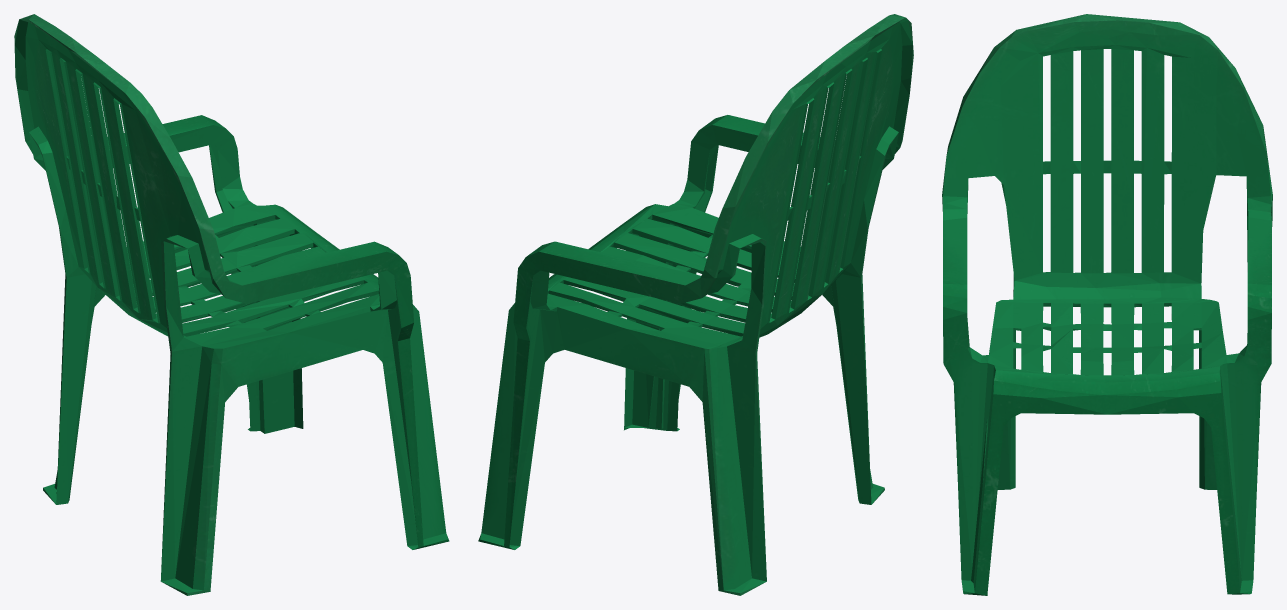
The model's file is silla_plastica.glb.
3 renders of one model, left to right at view 1: azimuth 30°, elevation 25°; view 2: azimuth 150°, elevation 25°; view 3: azimuth 270°, elevation 25°, orthographic. The views are drawn at different scales.
Visible parts, largest first — view 1: Impilate Plastic Chair LR; view 2: Impilate Plastic Chair LR; view 3: Impilate Plastic Chair LR.
Boxes of the visible parts, x1,y1,x2,y2 form: Impilate Plastic Chair LR: [14, 14, 449, 595]; Impilate Plastic Chair LR: [478, 14, 913, 595]; Impilate Plastic Chair LR: [942, 14, 1272, 595].
Bounding box in the file's own units: 0.4853 × 0.771 × 0.5138.
1 material, 1 textured.
